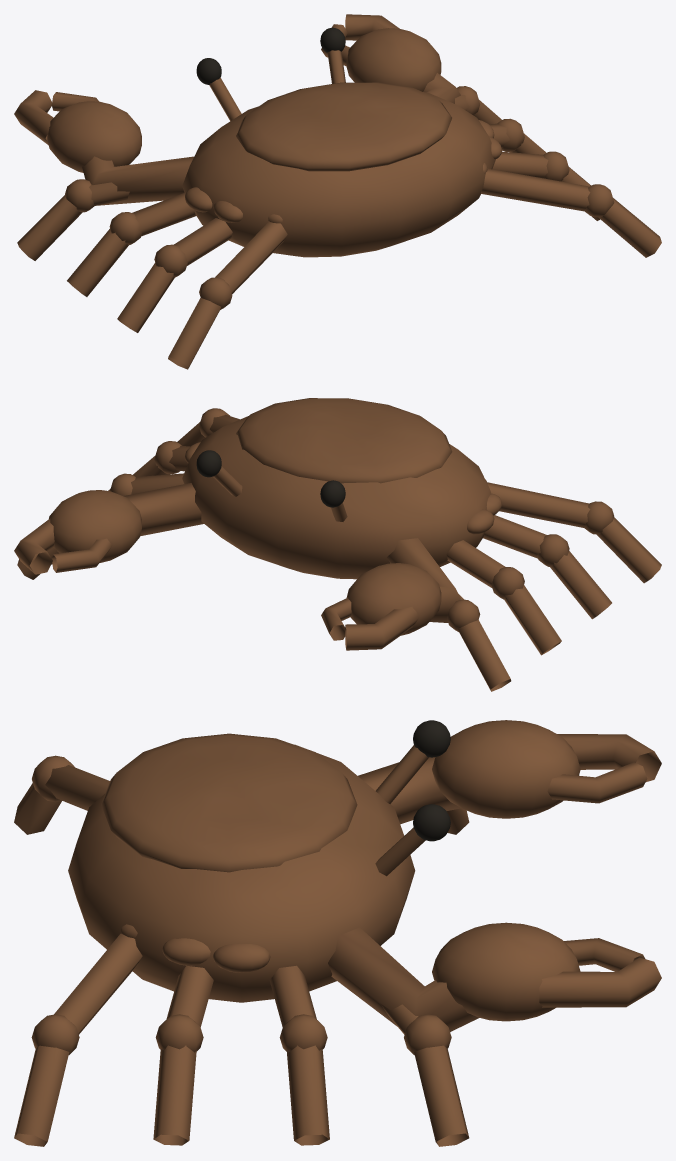
File: crab.glb
The picture shows the model from 3 angles, top to bottom: view 1: azimuth 30°, elevation 25°; view 2: azimuth 150°, elevation 25°; view 3: azimuth 270°, elevation 25°; orthographic projection. The views are drawn at different scales.
Visible parts, largest first — view 1: shell, eye; view 2: shell, eye; view 3: shell, eye.
Boxes of the visible parts, <box> form: shell: <box>14,14,661,369</box>; eye: <box>196,27,345,84</box>; shell: <box>14,398,661,691</box>; eye: <box>196,450,345,507</box>; shell: <box>14,720,661,1146</box>; eye: <box>413,720,450,841</box>.
Bounding box in the file's own units: 0.9526 × 0.3021 × 0.7837.
